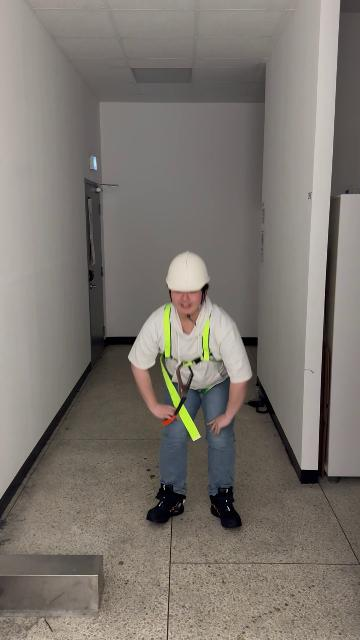helmet_worn: (164, 251, 211, 291)
shoe_worn: (145, 483, 186, 524), (209, 487, 241, 529)
vest_worn: (153, 297, 218, 435)
